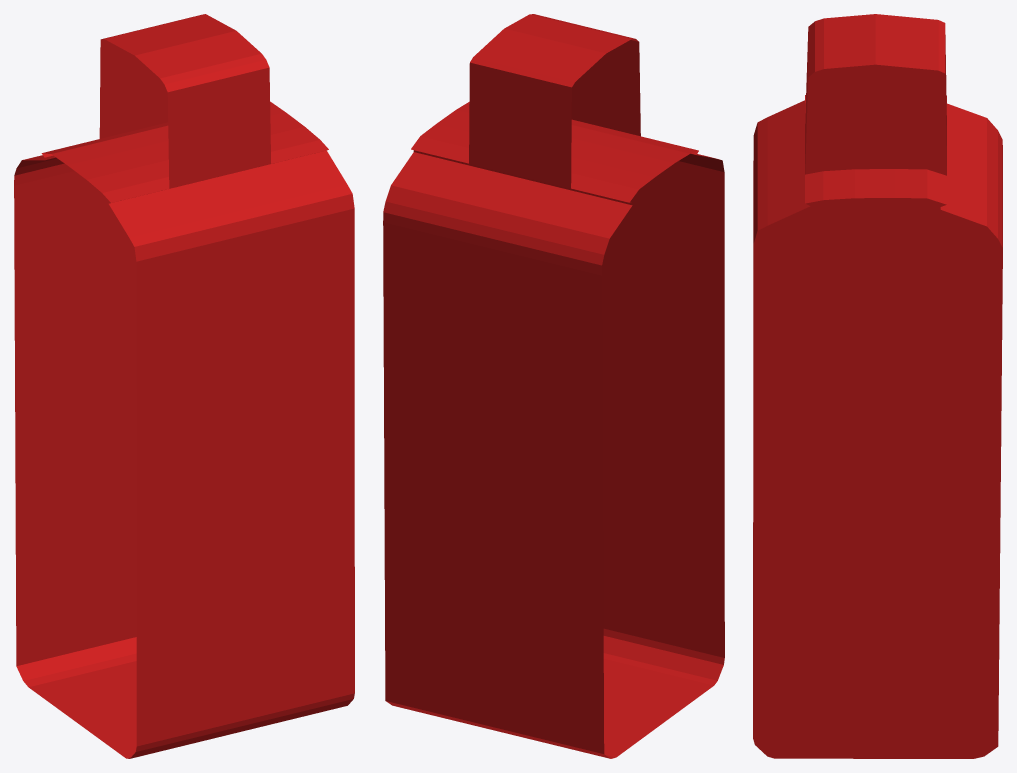
File: sample-scene.gltf
3 views of the same model, side by side, from view 1: azimuth 30°, elevation 25°; view 2: azimuth 150°, elevation 25°; view 3: azimuth 270°, elevation 25° (orthographic).
Parts seen in each view (by area): view 1: diluent_2; view 2: diluent_2; view 3: diluent_2.
Part boxes in pixels (left/top/right/bottom): diluent_2: left=14, top=14, right=354, bottom=758; diluent_2: left=383, top=14, right=724, bottom=758; diluent_2: left=753, top=14, right=1002, bottom=758.
Size of the model in its own units: 0.3 by 0.8574 by 0.2918.
